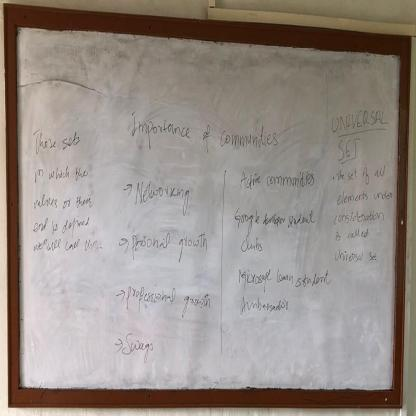Handwritten text: (126, 98, 280, 157), (229, 204, 317, 254), (125, 274, 213, 323), (129, 222, 210, 270), (237, 258, 334, 295), (134, 169, 196, 219), (237, 163, 317, 195), (329, 99, 388, 137), (31, 155, 90, 187), (239, 290, 293, 324), (31, 121, 84, 155), (29, 235, 104, 259), (31, 187, 97, 213), (123, 321, 157, 371), (332, 243, 384, 272), (336, 184, 394, 208), (336, 160, 388, 185), (34, 213, 91, 234), (330, 205, 387, 225), (333, 224, 371, 247), (336, 134, 362, 162)
Whiteboard: (10, 20, 403, 395)
